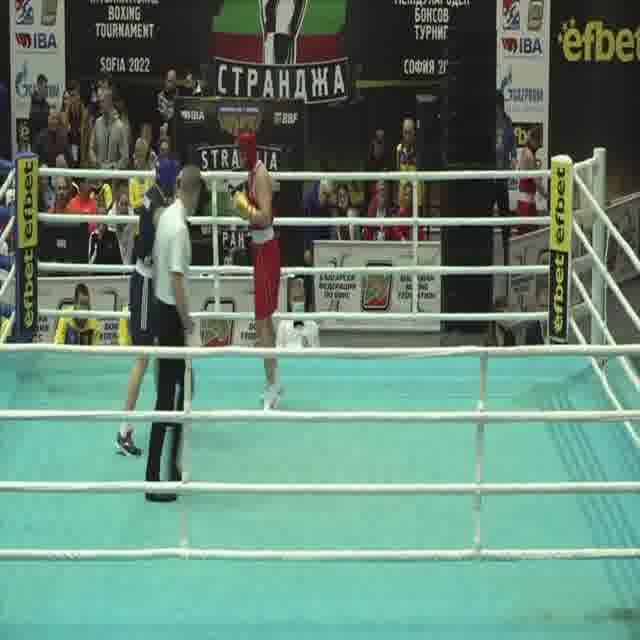blue-player: (110, 152, 196, 460)
red-player: (226, 124, 289, 419)
referee: (142, 165, 201, 504)
